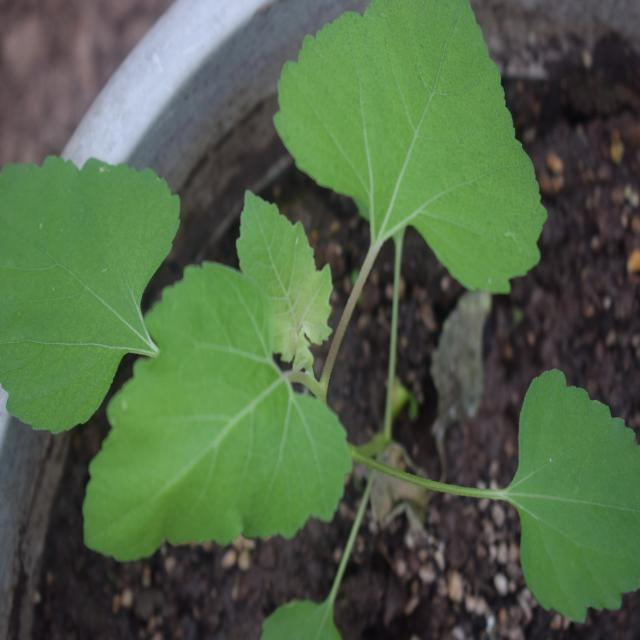cocklebur: (15, 11, 601, 597)
